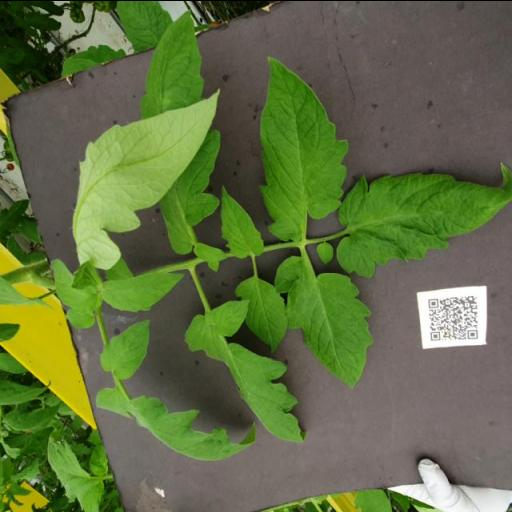Healthy: (335, 162, 512, 280), (185, 298, 305, 446), (258, 54, 350, 242), (274, 255, 374, 388), (96, 382, 258, 461), (234, 276, 288, 354), (100, 270, 184, 312), (220, 183, 265, 257), (99, 318, 150, 378)
